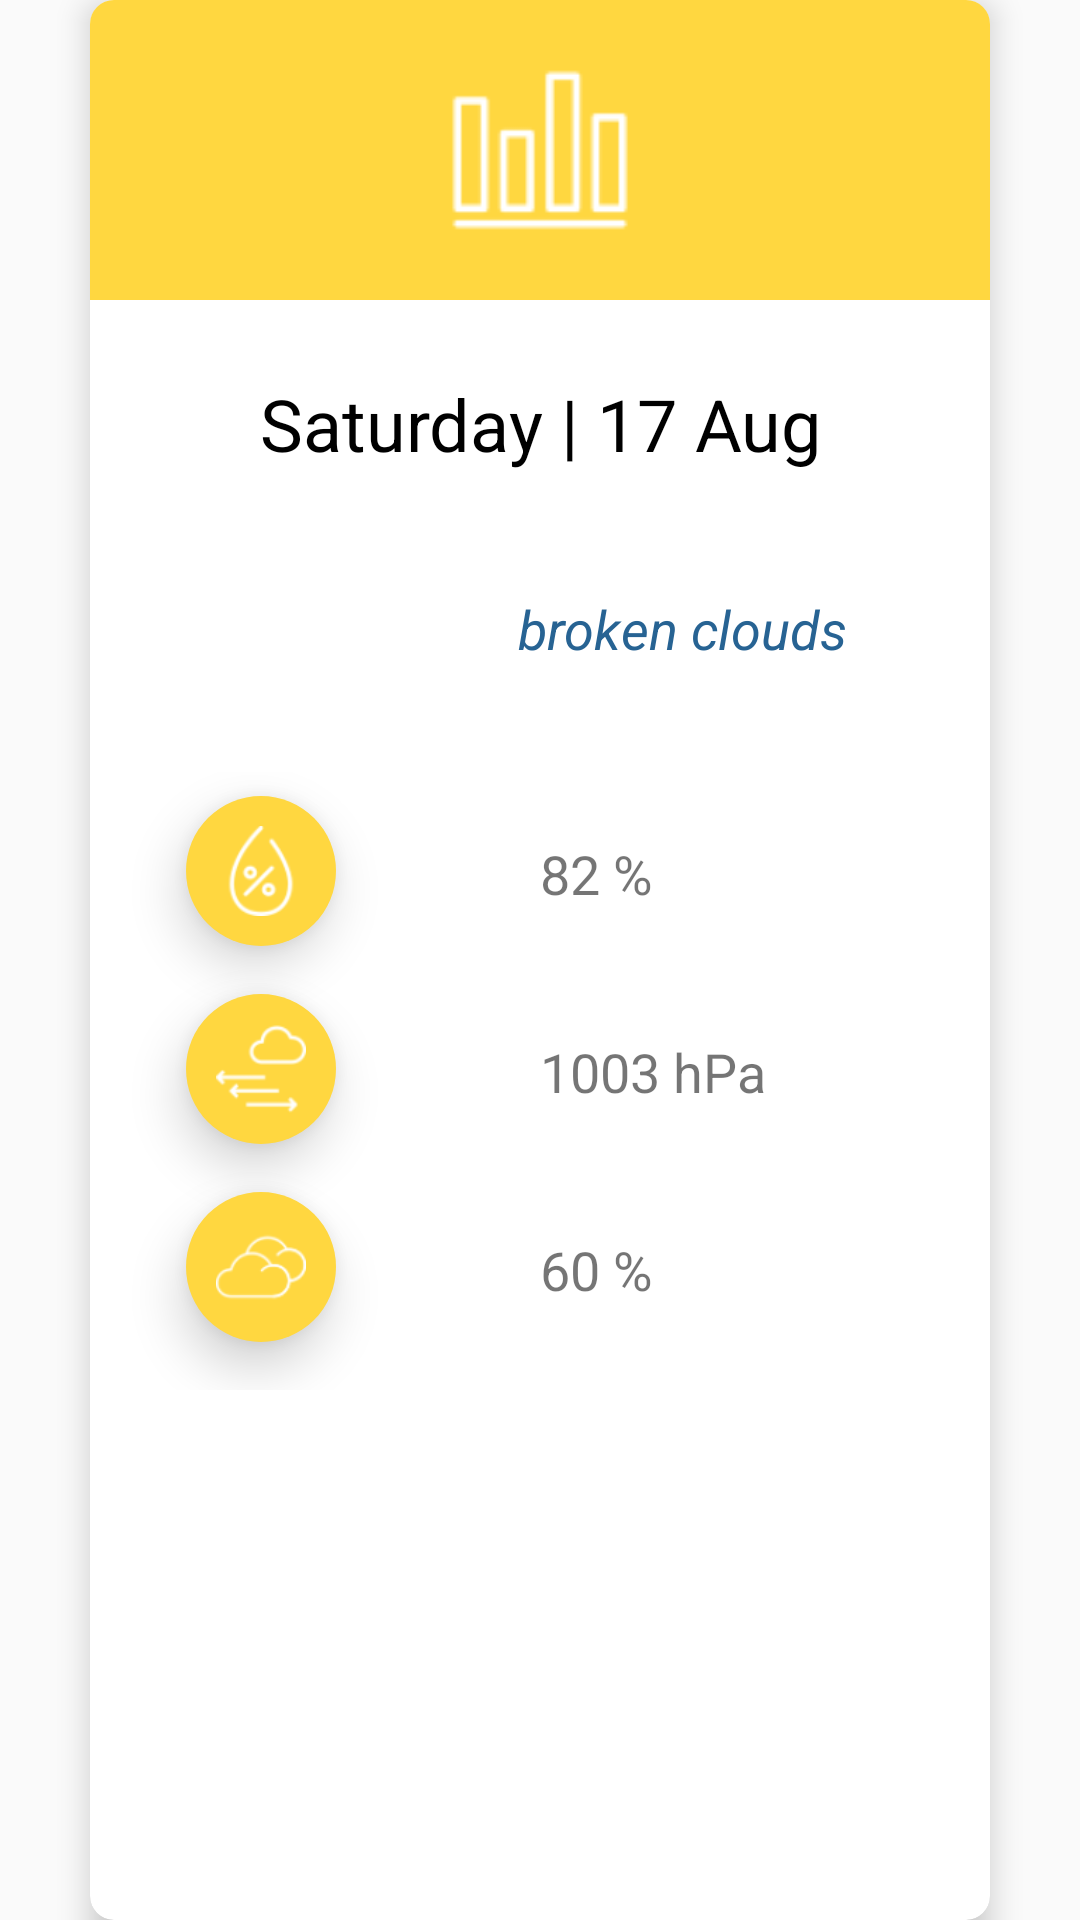

Where to tap for icons on this 1080*1920 app screen, as (x=x, y=y):
cloudy: (x=261, y=1267)
humidity: (x=261, y=871)
stats: (x=540, y=150)
